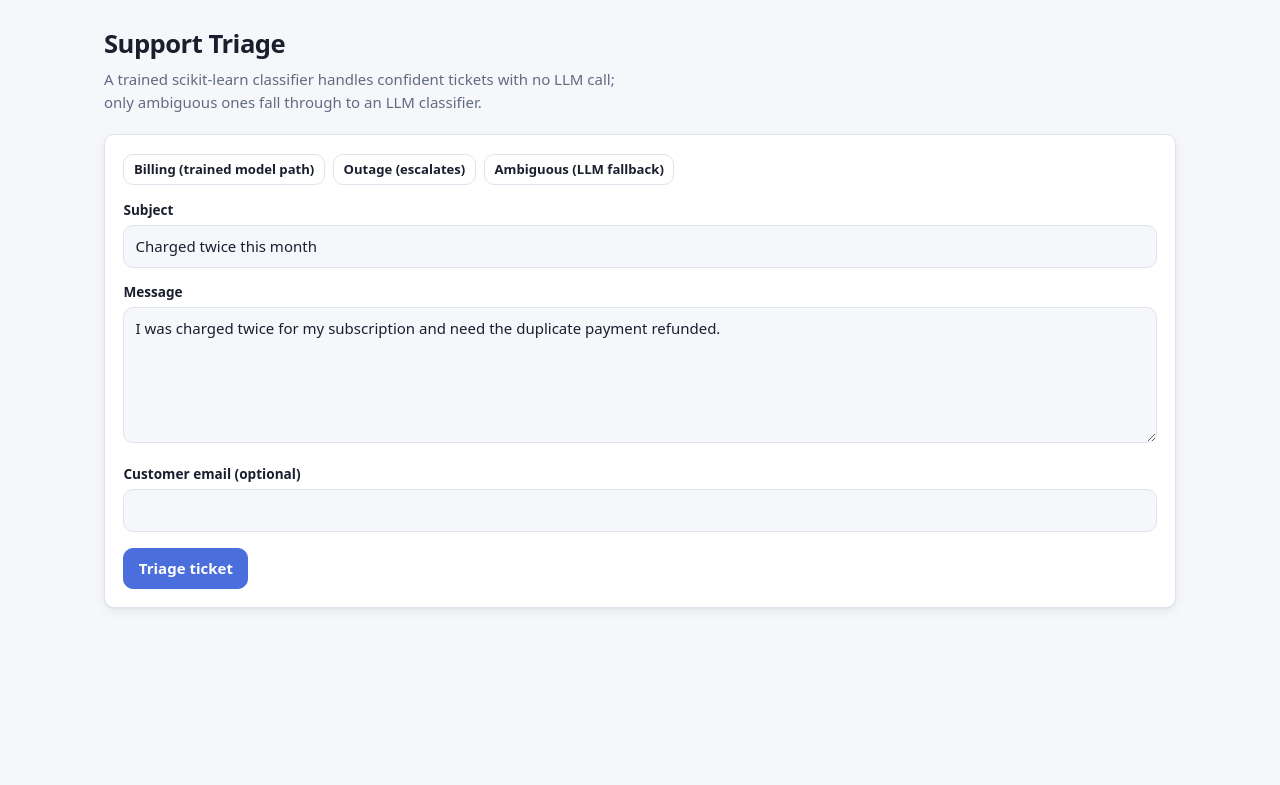
Test: SupportTriage › shows the trained-model path when the classifier was confident
Click the button "Triage ticket" at (186, 568), box x1=123 y1=548 x2=248 y2=589
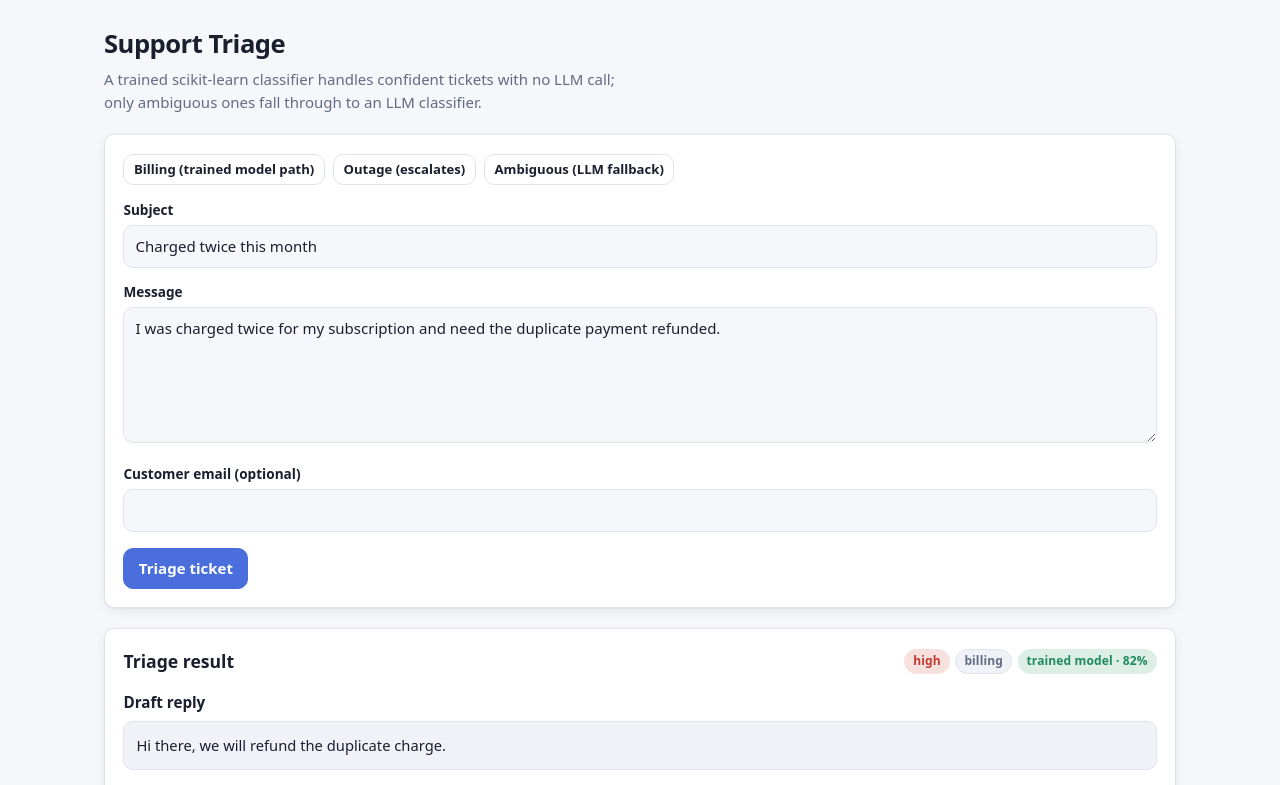
Check: the text "trained model · 82%" is shown, box x1=1018 y1=649 x2=1157 y2=674
Check: the text "billing" is shown, box x1=955 y1=649 x2=1012 y2=674
